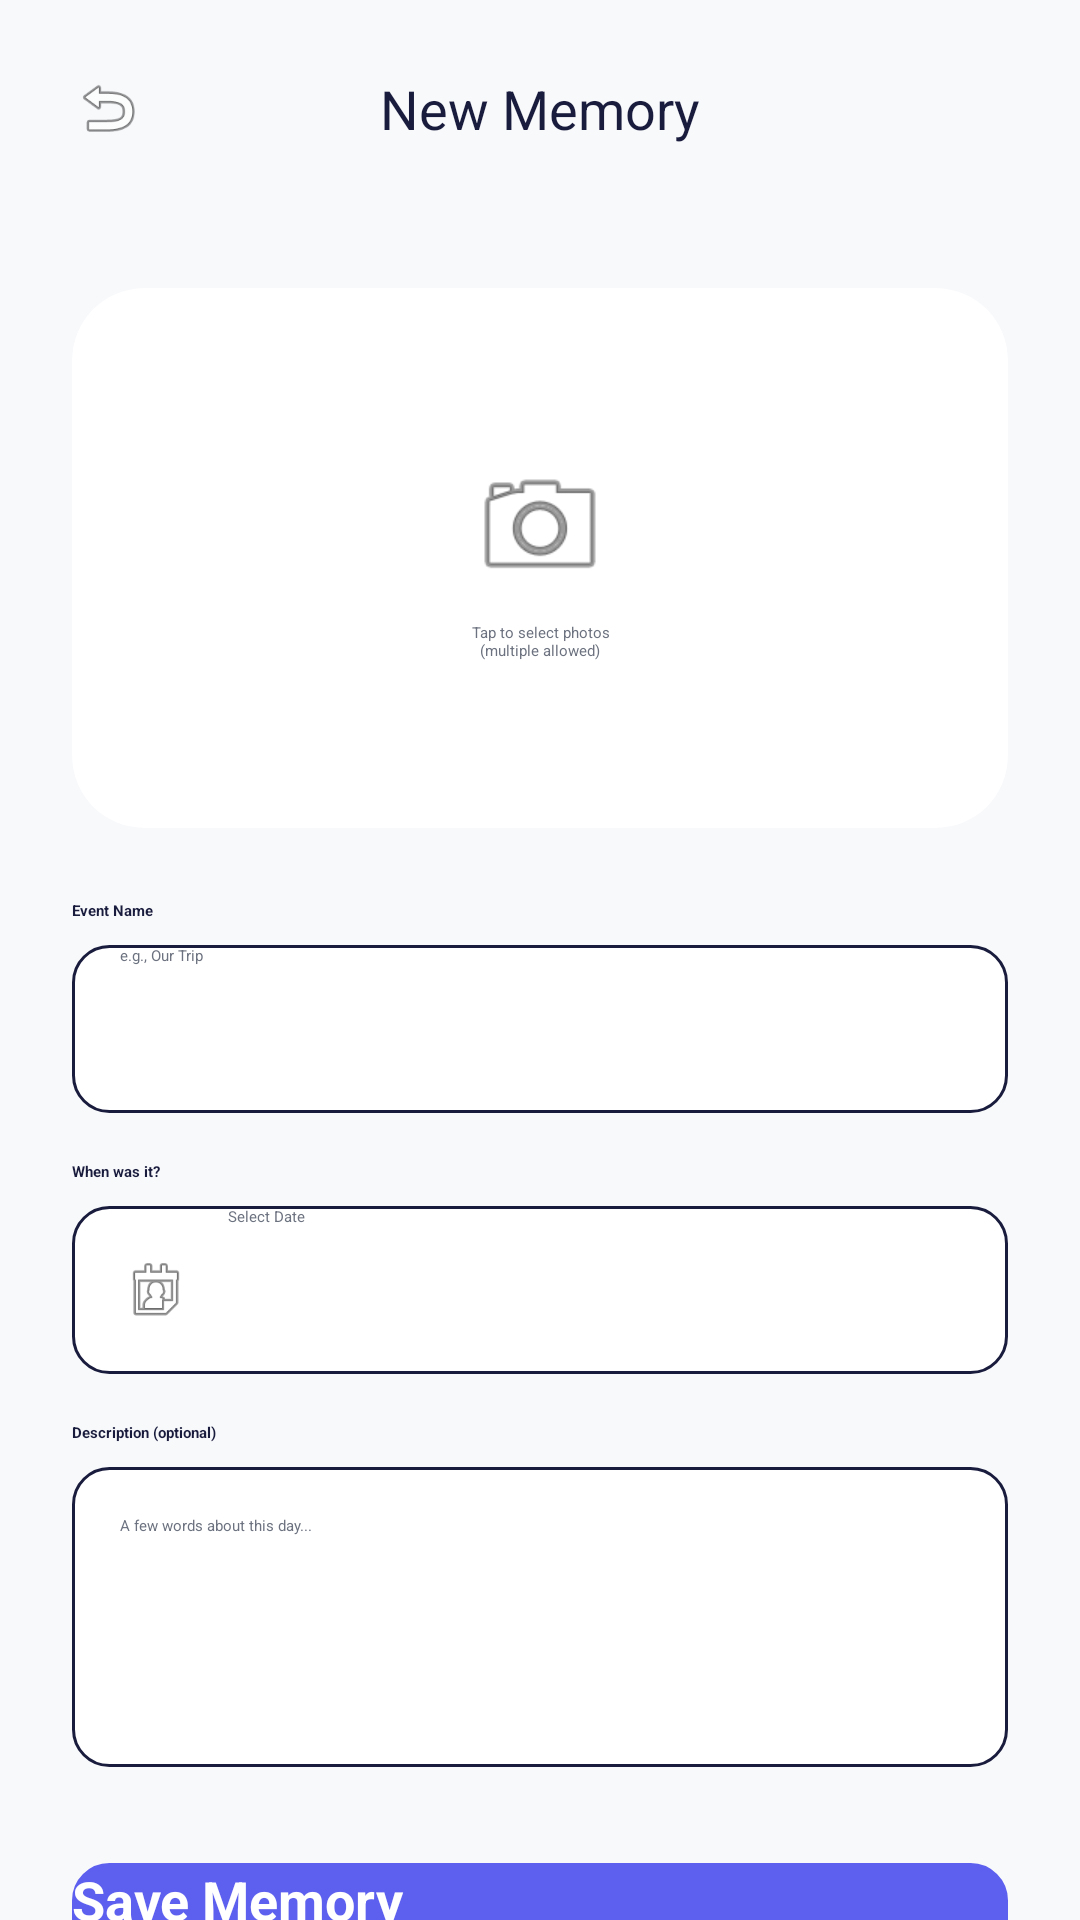

Icon bounding boxes for this 1080×1920 phone screenshot, format (x1, y1, x2, y2):
calendar: (133, 1263, 179, 1316)
camera: (484, 479, 596, 568)
revert: (83, 85, 135, 132)
